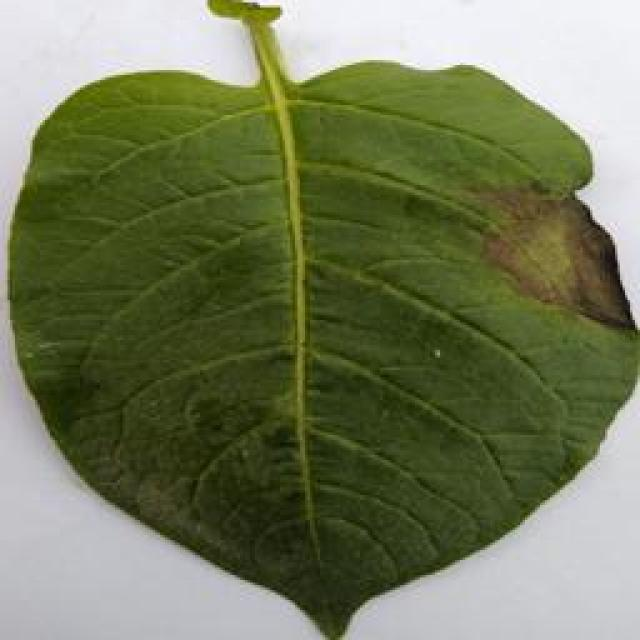Potato_Late_Blight: (8, 14, 628, 638)
